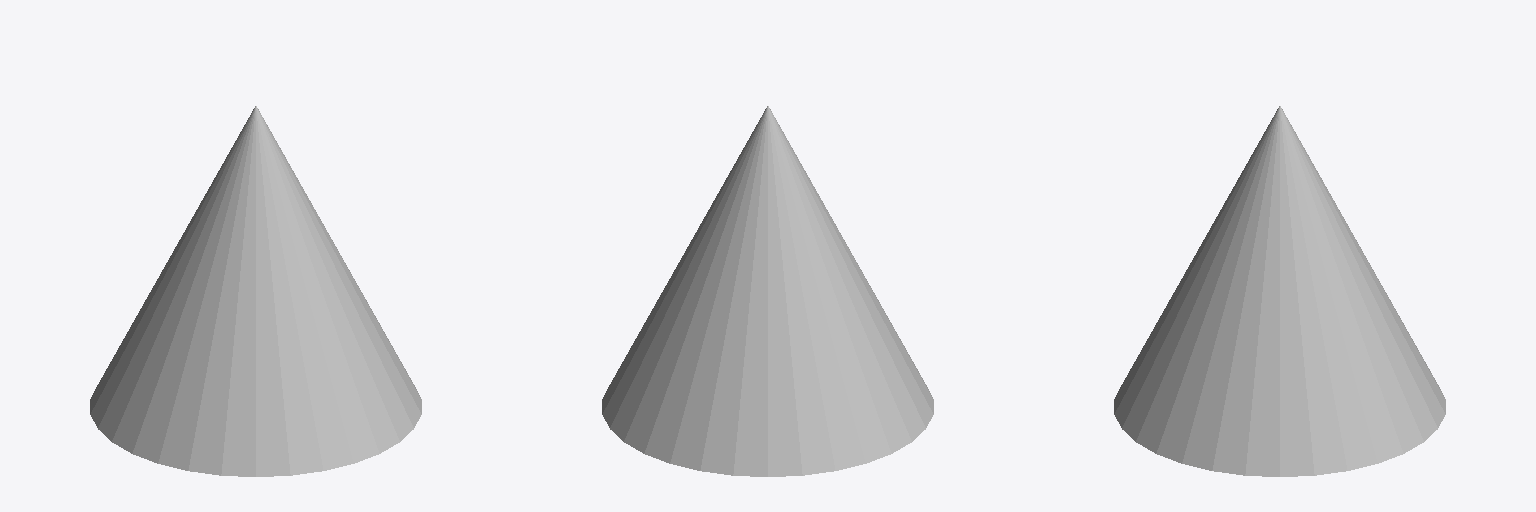
Rendered from highRes_Cone.obj.
3 views of the same model, side by side, from view 1: azimuth 30°, elevation 25°; view 2: azimuth 150°, elevation 25°; view 3: azimuth 270°, elevation 25° (orthographic).
Size of the model in its own units: 2 by 2 by 1.99.